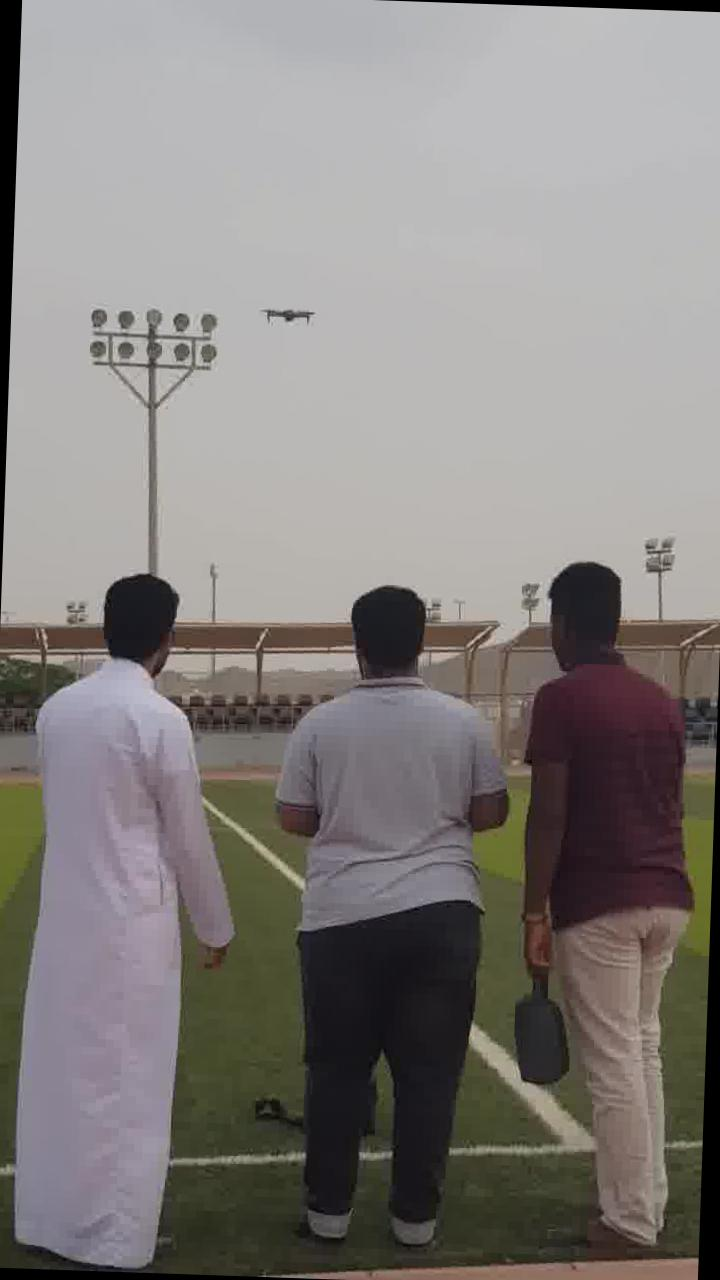drone: (248, 286, 329, 334)
